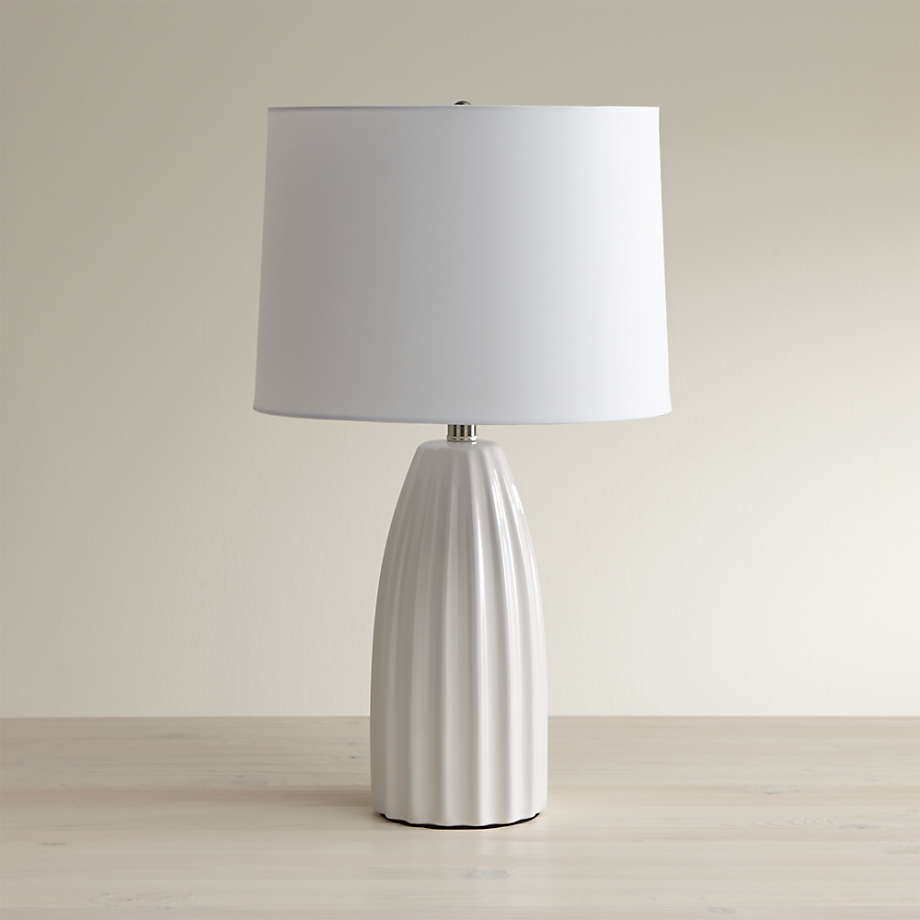lampu: (250, 102, 670, 837)
